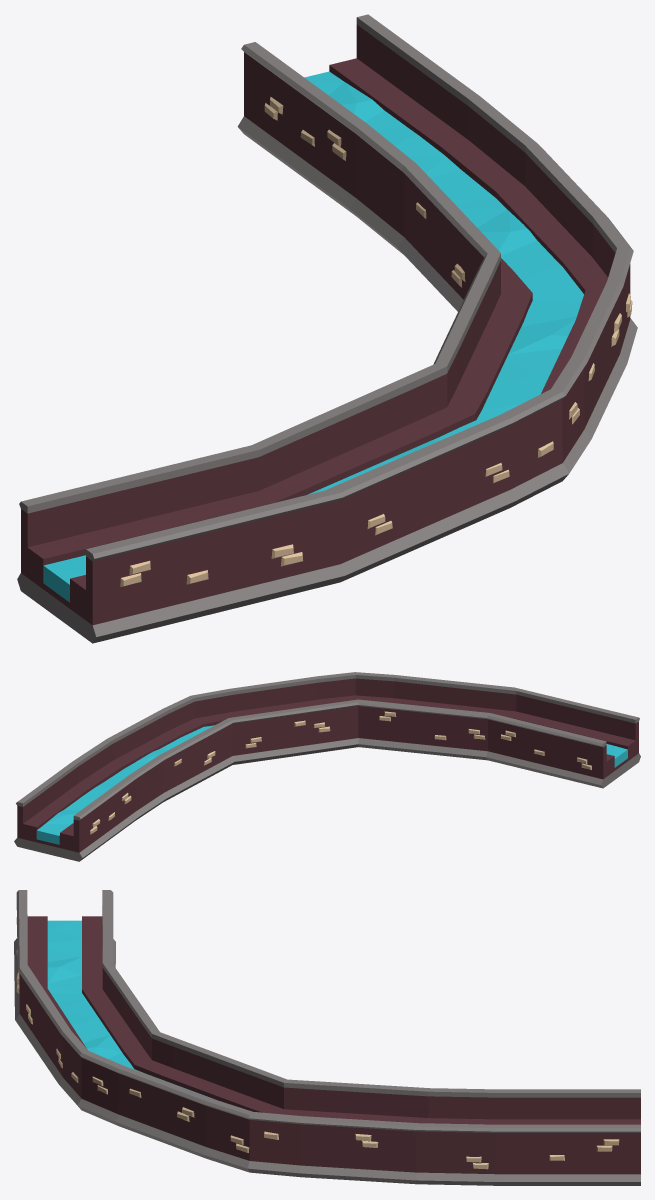
The model's file is SM_Aqueduct_Medium_Segment_Curve_Empire.fbx.
3 views of the same model, one above another, from view 1: azimuth 30°, elevation 25°; view 2: azimuth 150°, elevation 25°; view 3: azimuth 270°, elevation 25° (orthographic). The views are drawn at different scales.
Parts seen in each view (by area): view 1: SM_Aqueduct_Medium_Segment_Curve_Empire; view 2: SM_Aqueduct_Medium_Segment_Curve_Empire; view 3: SM_Aqueduct_Medium_Segment_Curve_Empire.
Boxes of the visible parts, left/top/right/bottom form: SM_Aqueduct_Medium_Segment_Curve_Empire: left=17, top=14, right=637, bottom=643; SM_Aqueduct_Medium_Segment_Curve_Empire: left=14, top=672, right=640, bottom=861; SM_Aqueduct_Medium_Segment_Curve_Empire: left=14, top=890, right=640, bottom=1185.
Bounding box in the file's own units: 16.61 × 1.85 × 18.31.
